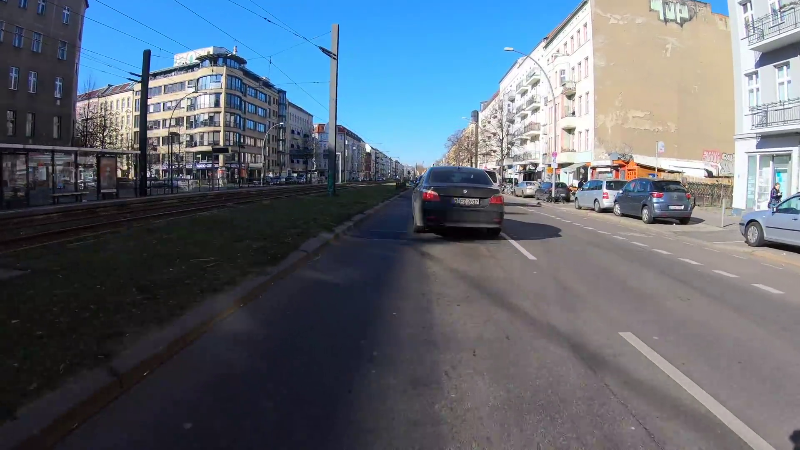Plate: (448, 196, 482, 207), (665, 203, 685, 210)
